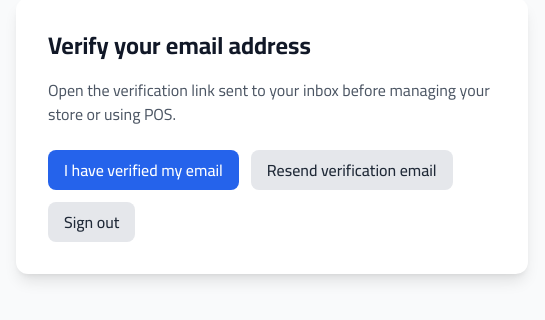
Test: Owner verification screen › shows resend throttling without bypassing verification
Click the button "Resend verification email" at (352,170), box [251, 150, 453, 190]
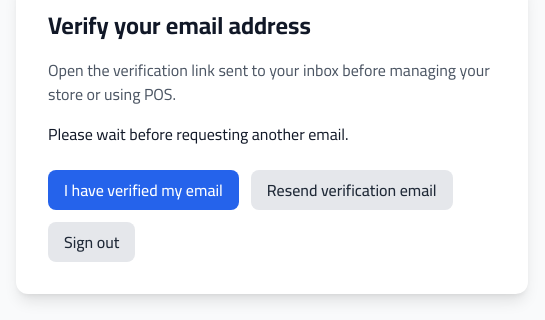
Expected: the text "Please wait before requesting another email." is shown, [48, 119, 348, 149]
